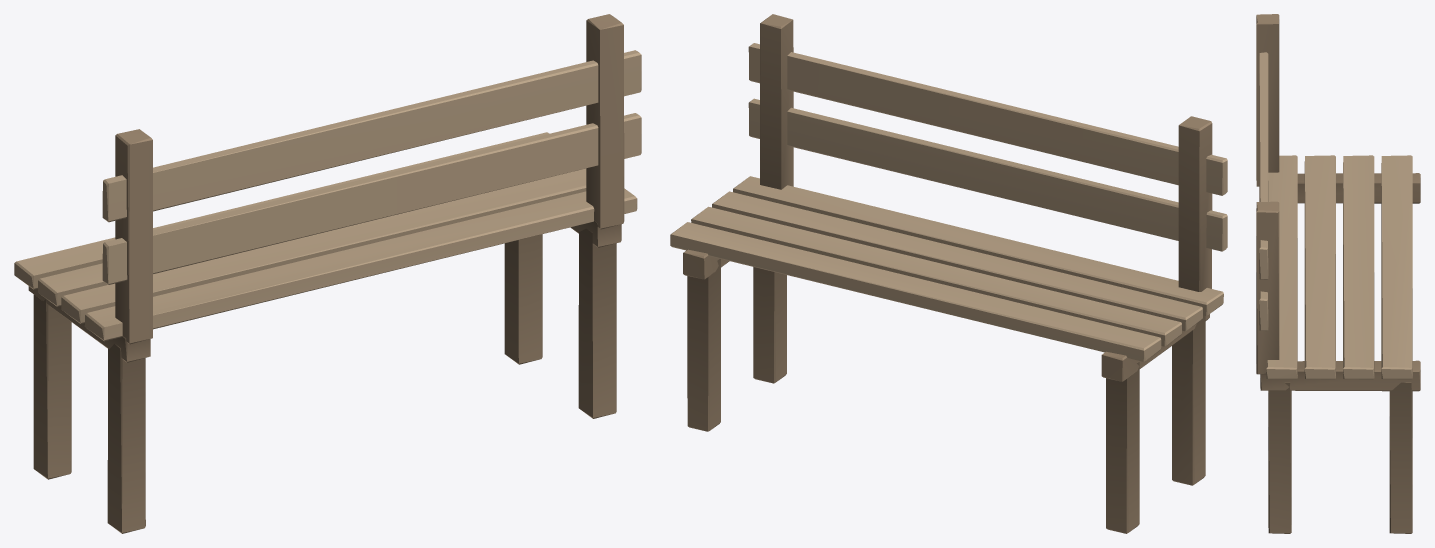
The model's file is bench_low.glb.
3 views of the same model, side by side, from view 1: azimuth 30°, elevation 25°; view 2: azimuth 150°, elevation 25°; view 3: azimuth 270°, elevation 25° (orthographic). The views are drawn at different scales.
Bounding box in the file's own units: 1.25 × 0.885 × 0.4073.
